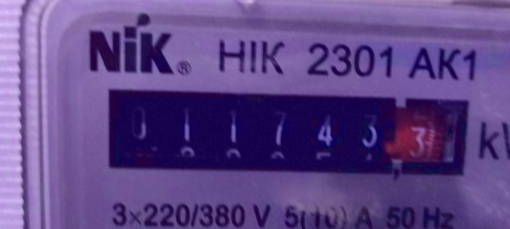0: (127, 103, 150, 142), (177, 103, 196, 144)
1: (224, 104, 241, 145)
3: (359, 109, 380, 152), (407, 122, 428, 160)
4: (314, 108, 335, 148)
7: (267, 105, 291, 149)
screen: (88, 75, 477, 187)
